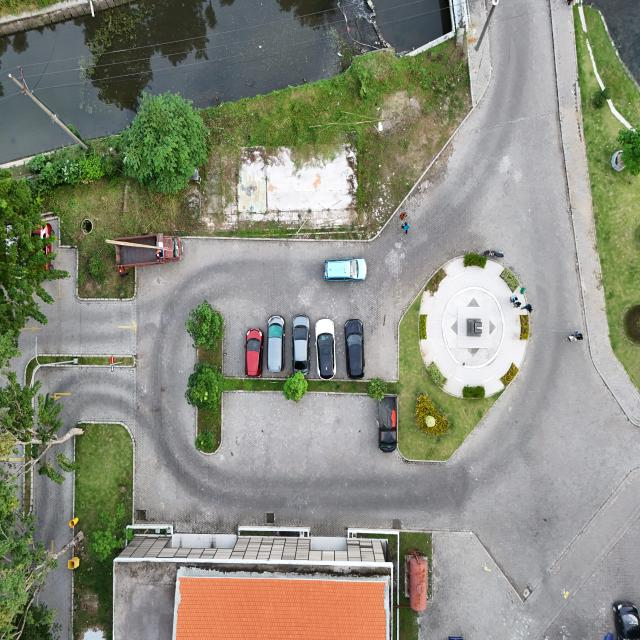Tree: (184, 358, 226, 412), (186, 298, 227, 352), (87, 522, 123, 560), (282, 371, 309, 404), (192, 426, 219, 456), (366, 377, 388, 403), (424, 416, 436, 430)
